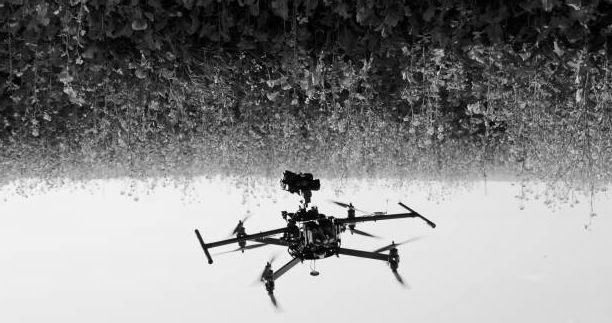Drone: (188, 166, 438, 316)
